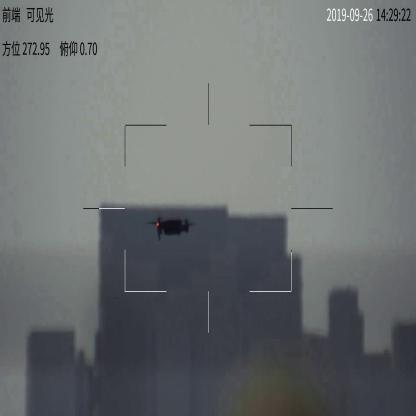uav: (153, 212, 195, 239)
